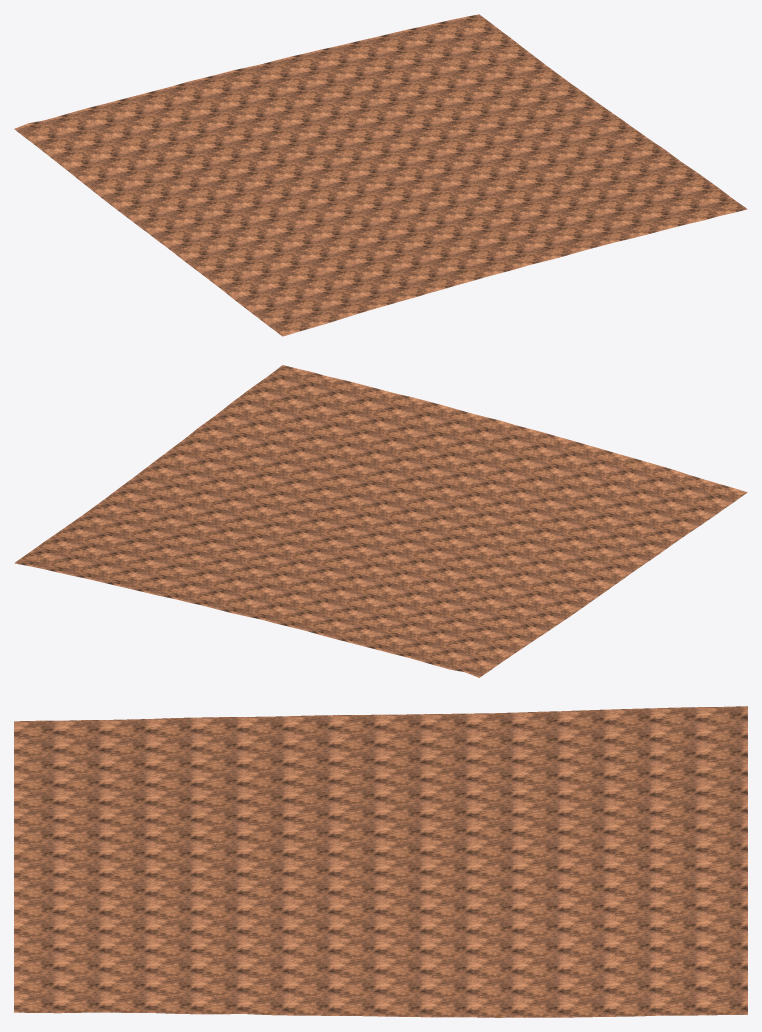
Rendered from terrain_10_21.dae.
3 renders of one model, top to bottom at view 1: azimuth 30°, elevation 25°; view 2: azimuth 150°, elevation 25°; view 3: azimuth 270°, elevation 25°, orthographic. The views are drawn at different scales.
Visible parts, largest first — view 1: terrain_10_21-node; view 2: terrain_10_21-node; view 3: terrain_10_21-node.
Boxes of the visible parts, left/top/right/bottom form: terrain_10_21-node: left=14, top=14, right=747, bottom=336; terrain_10_21-node: left=14, top=365, right=747, bottom=677; terrain_10_21-node: left=14, top=706, right=747, bottom=1017.
Bounding box in the file's own units: 128 × 128 × 4.26.
Materials: 1 (1 with a texture image).
